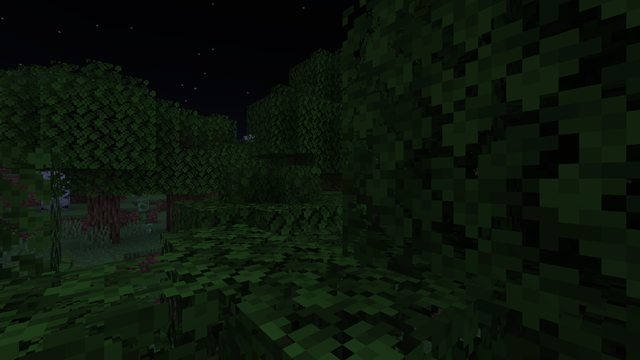creepers: (135, 197, 150, 233)
